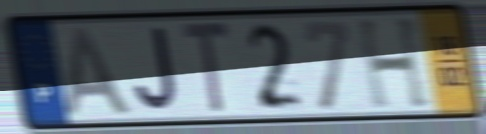2: (245, 20, 306, 112)
7: (300, 17, 355, 113)
A: (62, 24, 137, 119)
H: (353, 14, 434, 112)
J: (132, 24, 180, 115)
T: (178, 18, 233, 118)
